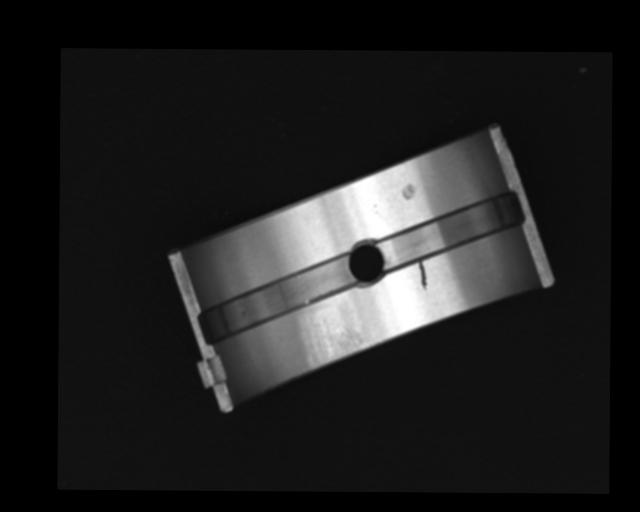bruise: (400, 183, 416, 201)
gap: (202, 254, 355, 340), (379, 192, 523, 265)
hole: (347, 242, 386, 282)
nick: (417, 259, 428, 293)
scratch: (303, 309, 363, 378)
